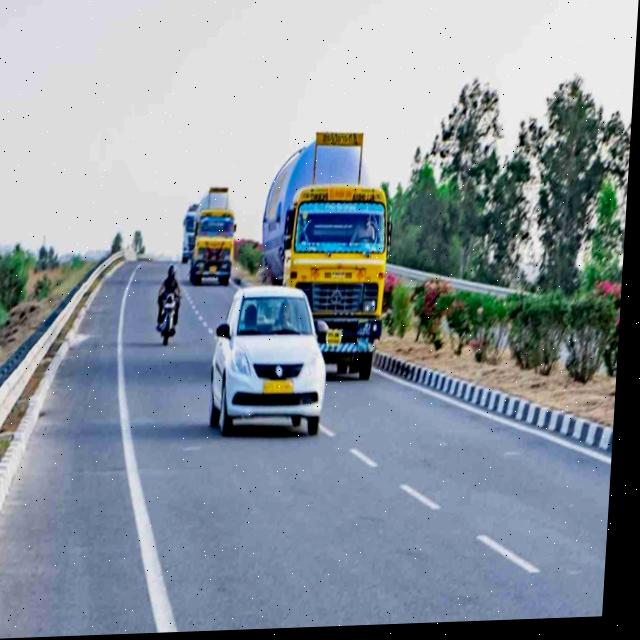plate: (268, 379, 301, 398), (330, 329, 348, 348)
